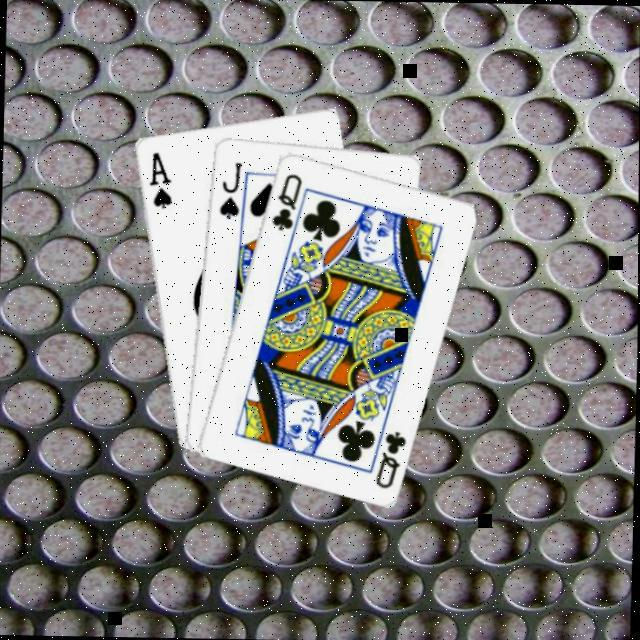AS: (146, 148, 176, 210)
JS: (216, 158, 245, 220)
QC: (268, 168, 306, 233), (373, 426, 410, 490)
